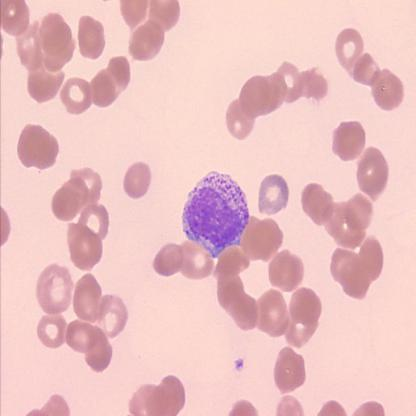Myelocyte: (180, 171, 249, 257)
